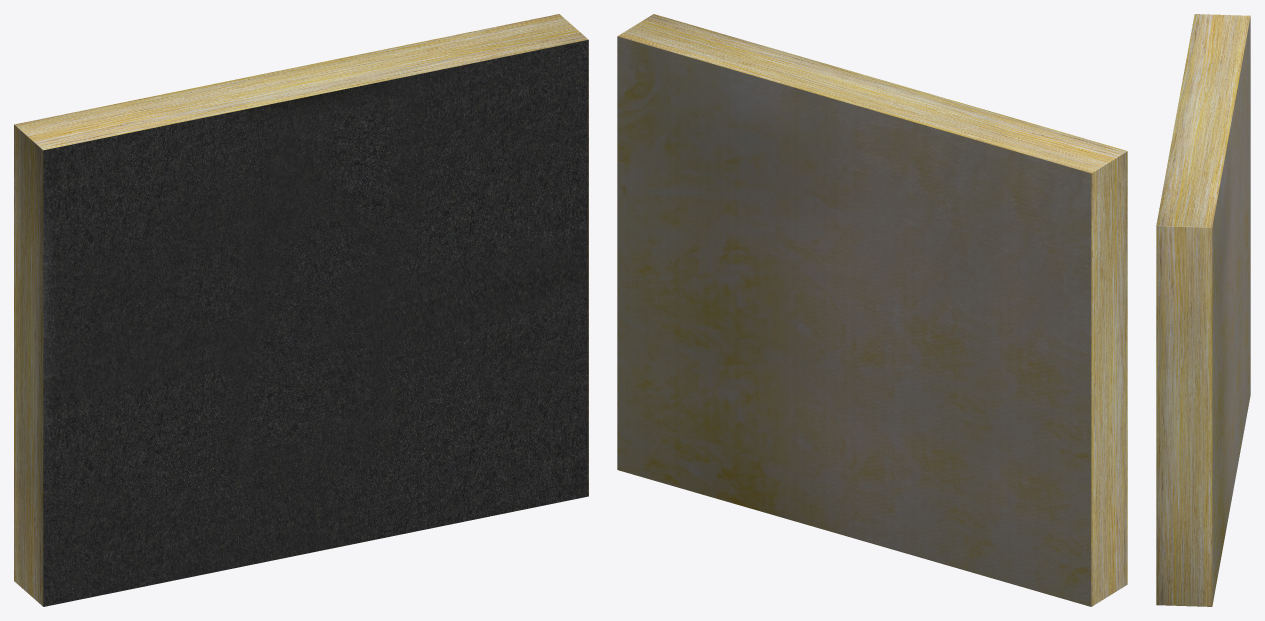
The model's file is BlackFacing_test.glb.
3 renders of one model, left to right at view 1: azimuth 30°, elevation 25°; view 2: azimuth 150°, elevation 25°; view 3: azimuth 270°, elevation 25°, orthographic. The views are drawn at different scales.
Parts seen in each view (by area): view 1: BlackFacing002; view 2: BlackFacing002; view 3: BlackFacing002.
Boxes of the visible parts, bbox=[...] form: BlackFacing002: bbox=[14, 14, 588, 606]; BlackFacing002: bbox=[617, 14, 1127, 606]; BlackFacing002: bbox=[1156, 14, 1250, 606].
Size of the model in its own units: 1.21 by 1 by 0.2252.
Materials: 3 (3 with a texture image).
